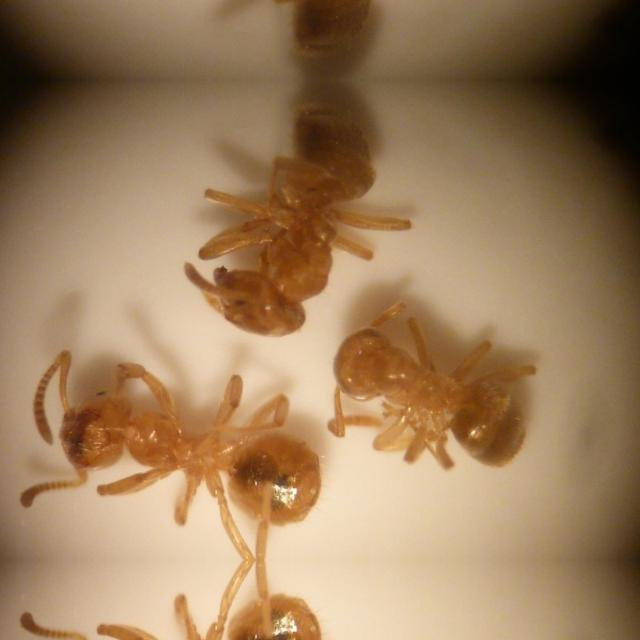Lasius: (20, 333, 340, 559), (302, 282, 552, 492), (205, 80, 378, 354), (20, 560, 340, 640), (205, 0, 378, 80)
